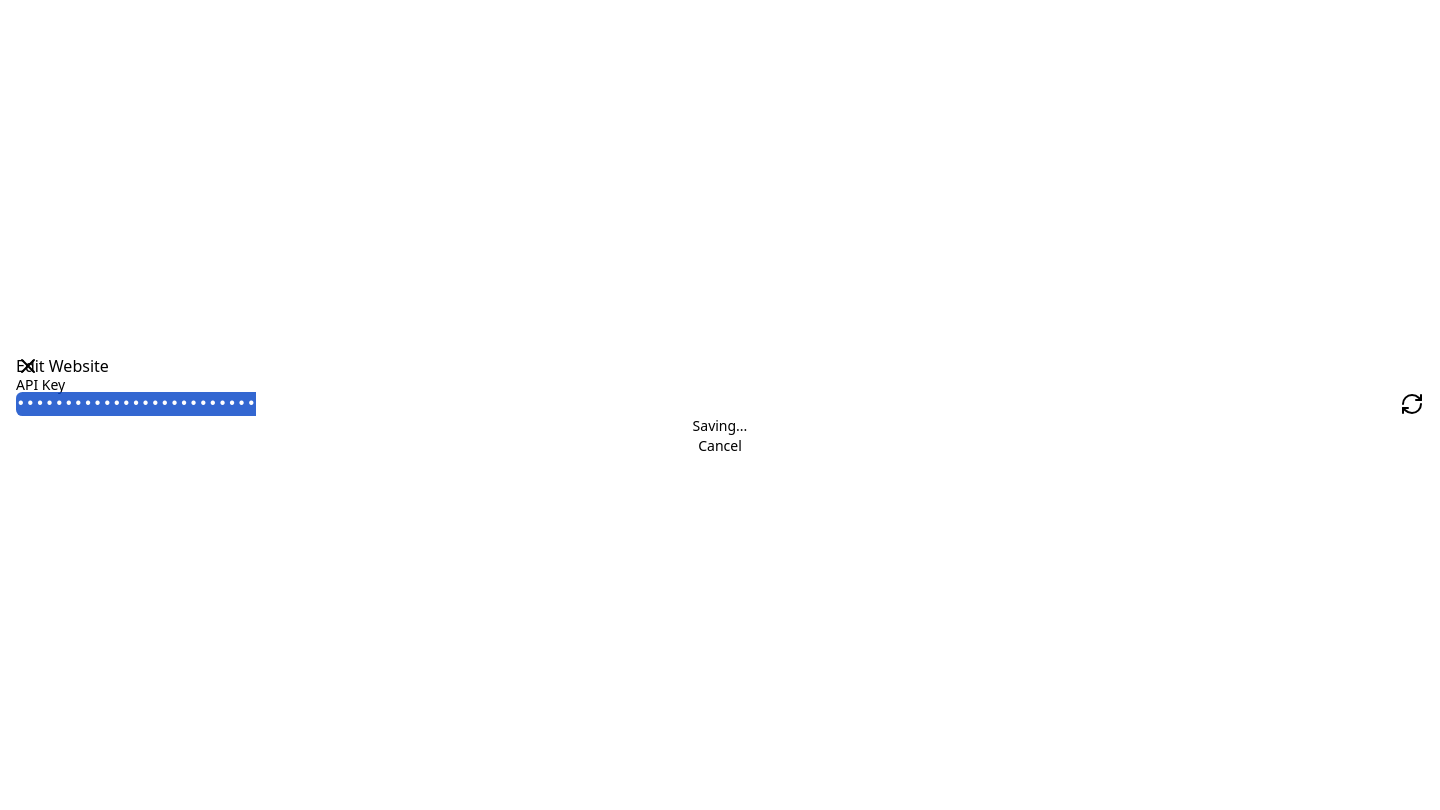
Test case: WebsiteFormModal › edit mode › clicking refresh shows 'New key will be generated on save' and disables the button
The width and height of the screenshot is (1440, 810).
Click the button titled "generate new api key": [1412, 404] box [1400, 392, 1424, 416]
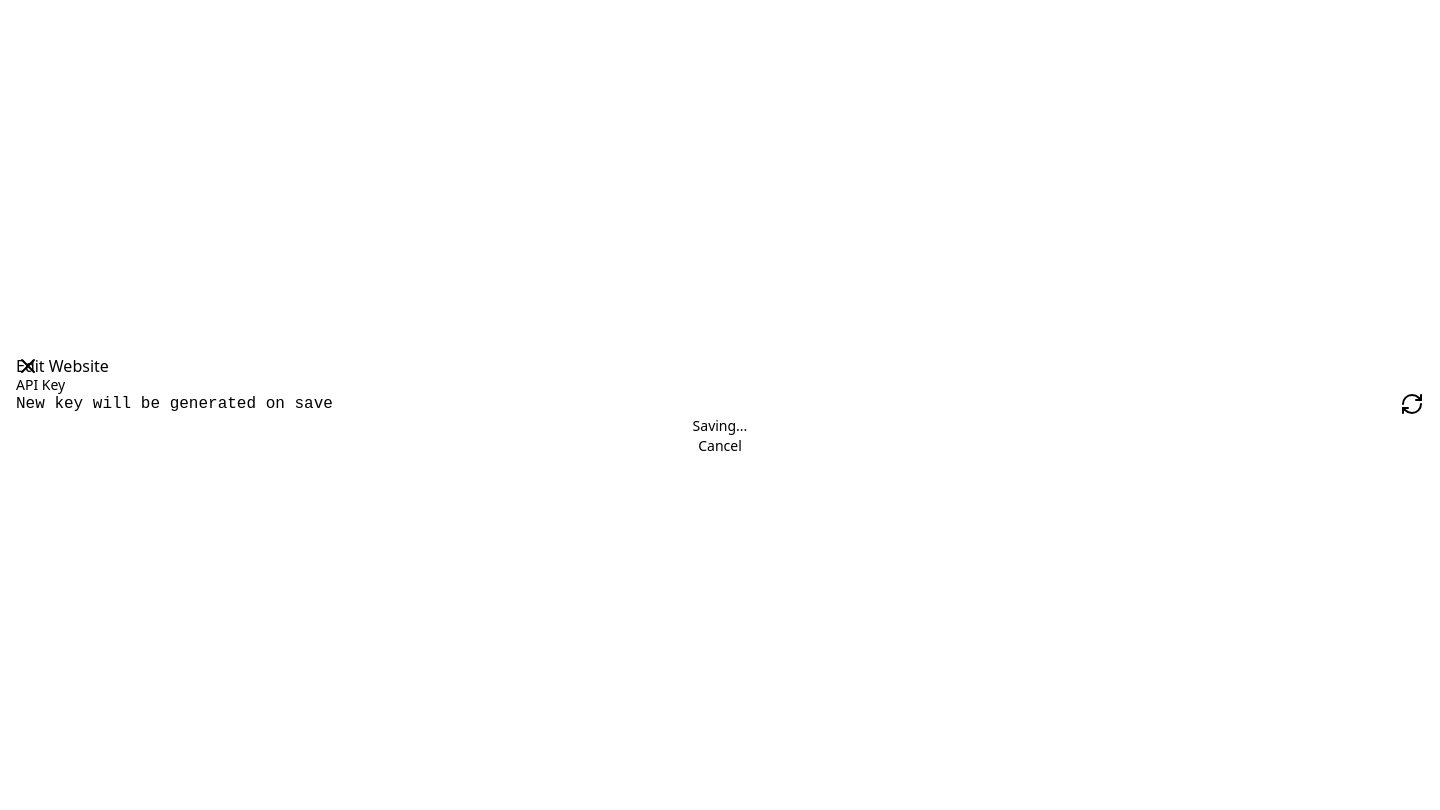
Check: the field showing "new key will be generated on save" is shown, box [16, 392, 1400, 416]
